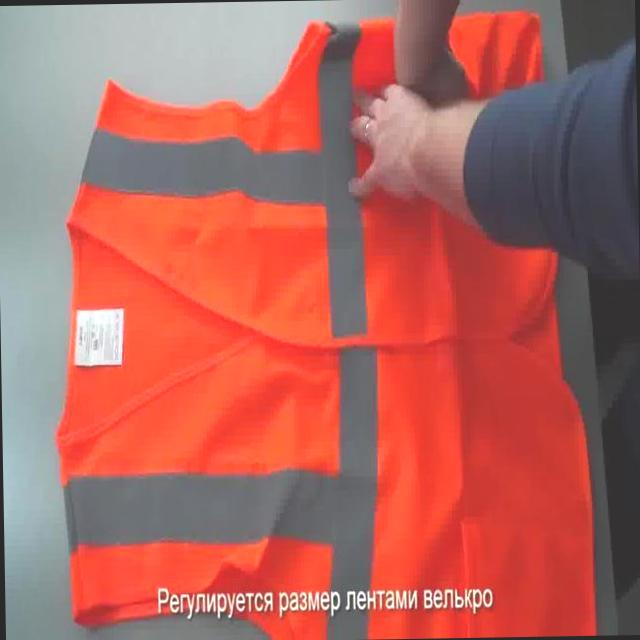vest: (46, 3, 598, 640)
